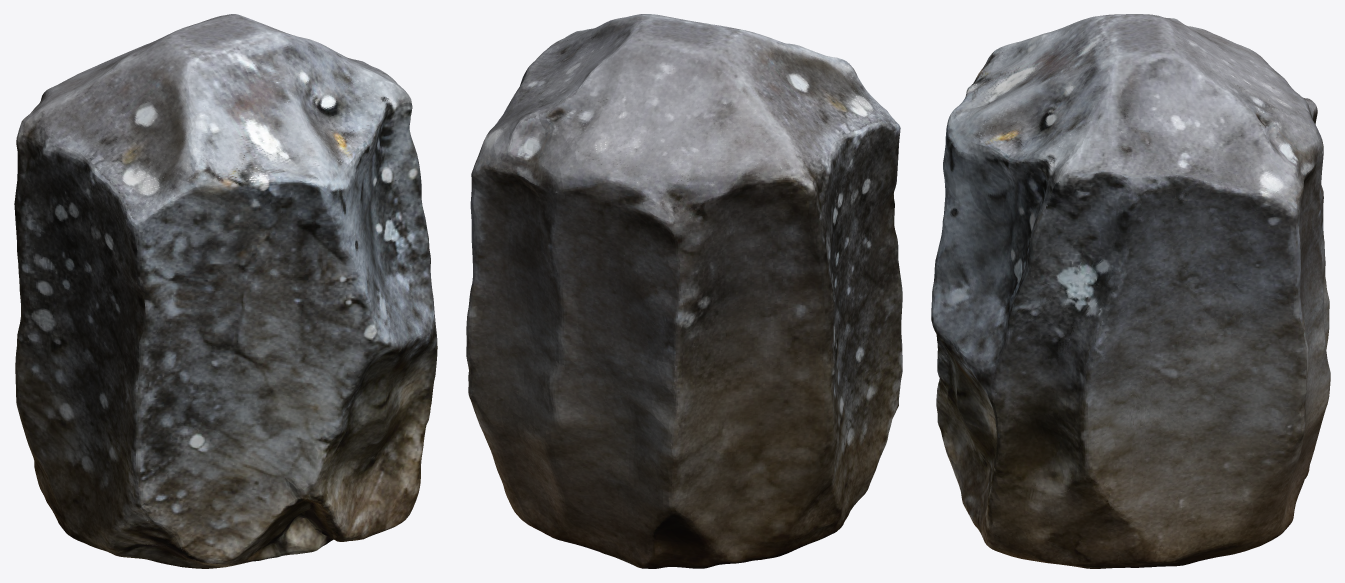
Rendered from traveler_env_coast_ojatara_stone_waypost_00001_.glb.
3 views of the same model, side by side, from view 1: azimuth 30°, elevation 25°; view 2: azimuth 150°, elevation 25°; view 3: azimuth 270°, elevation 25° (orthographic).
Visible parts, largest first — view 1: temp_mesh.ply; view 2: temp_mesh.ply; view 3: temp_mesh.ply.
Part boxes in pixels (left/top/right/bottom): temp_mesh.ply: left=14, top=14, right=437, bottom=568; temp_mesh.ply: left=466, top=14, right=902, bottom=568; temp_mesh.ply: left=931, top=14, right=1330, bottom=568.
Size of the model in its own units: 1.56 by 1.97 by 1.54.
1 material, 1 textured.
